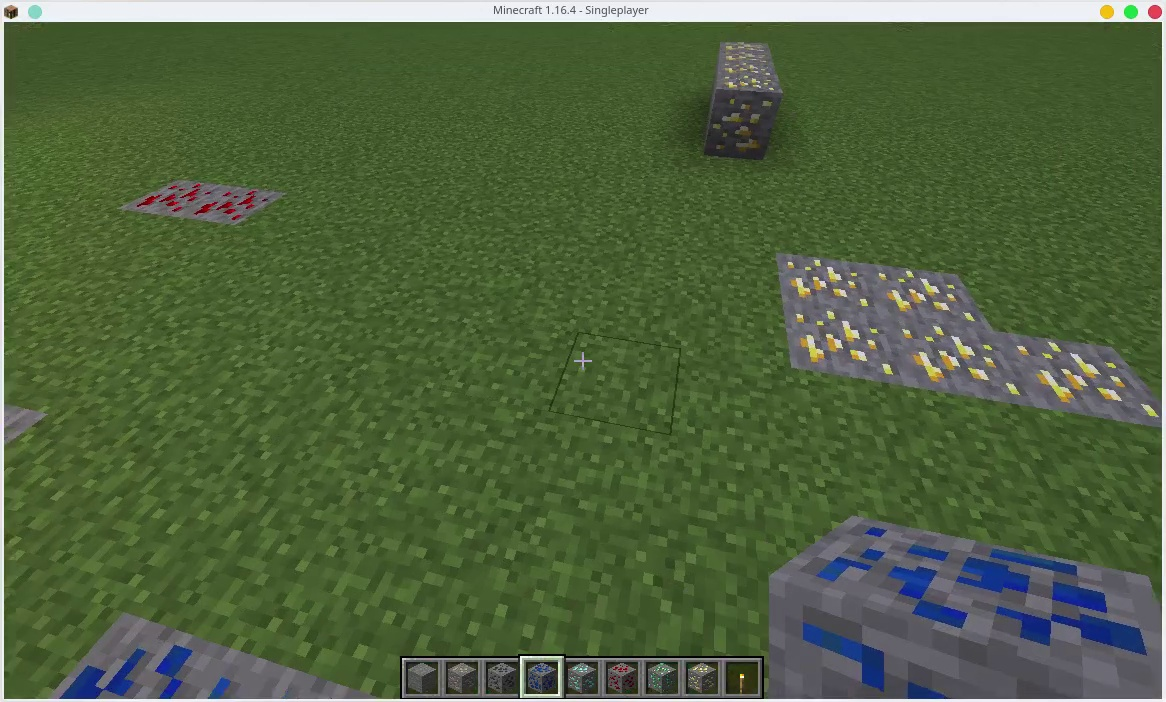gold: (1008, 327, 1158, 422), (790, 306, 897, 379), (903, 329, 1007, 404), (701, 77, 784, 161), (887, 270, 986, 330), (782, 250, 871, 308), (687, 666, 723, 697), (704, 64, 778, 74), (713, 53, 771, 61), (717, 43, 768, 52)
